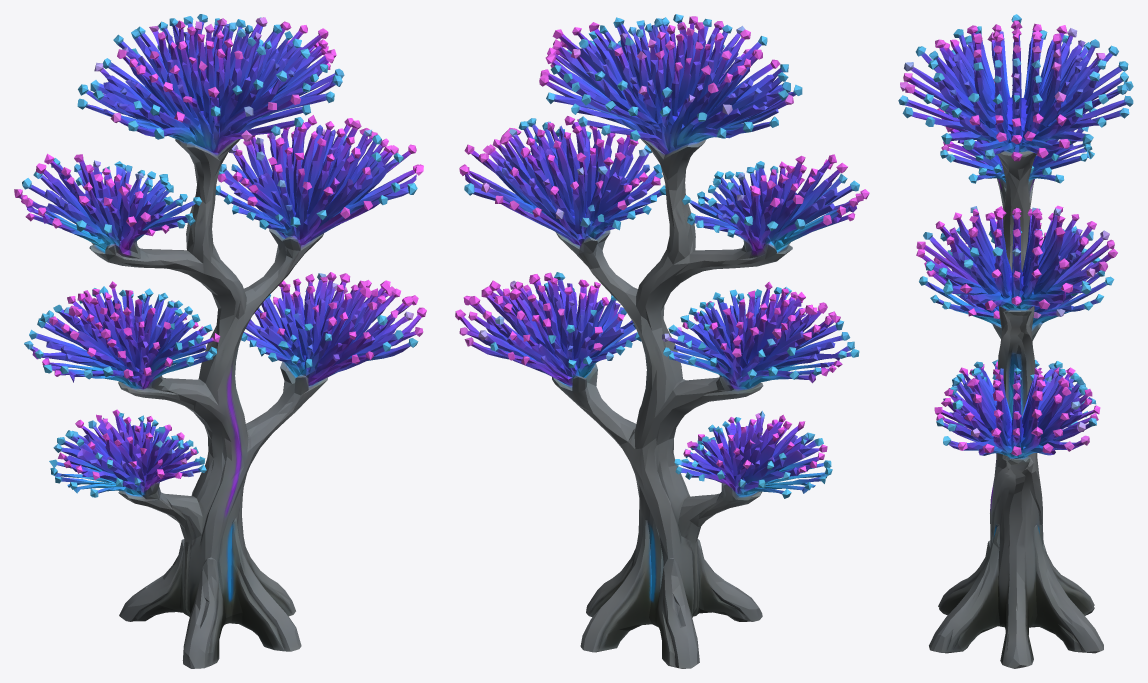
The model's file is source.glb.
3 views of the same model, side by side, from view 1: azimuth 30°, elevation 25°; view 2: azimuth 150°, elevation 25°; view 3: azimuth 270°, elevation 25° (orthographic).
Parts seen in each view (by area): view 1: model; view 2: model; view 3: model.
Boxes of the visible parts, box(x1,y1,x2,y2) form: model: box(14, 14, 426, 668); model: box(455, 14, 869, 668); model: box(898, 14, 1133, 668).
Size of the model in its own units: 1.3 by 1.9 by 0.6818.
1 material, 1 textured.
